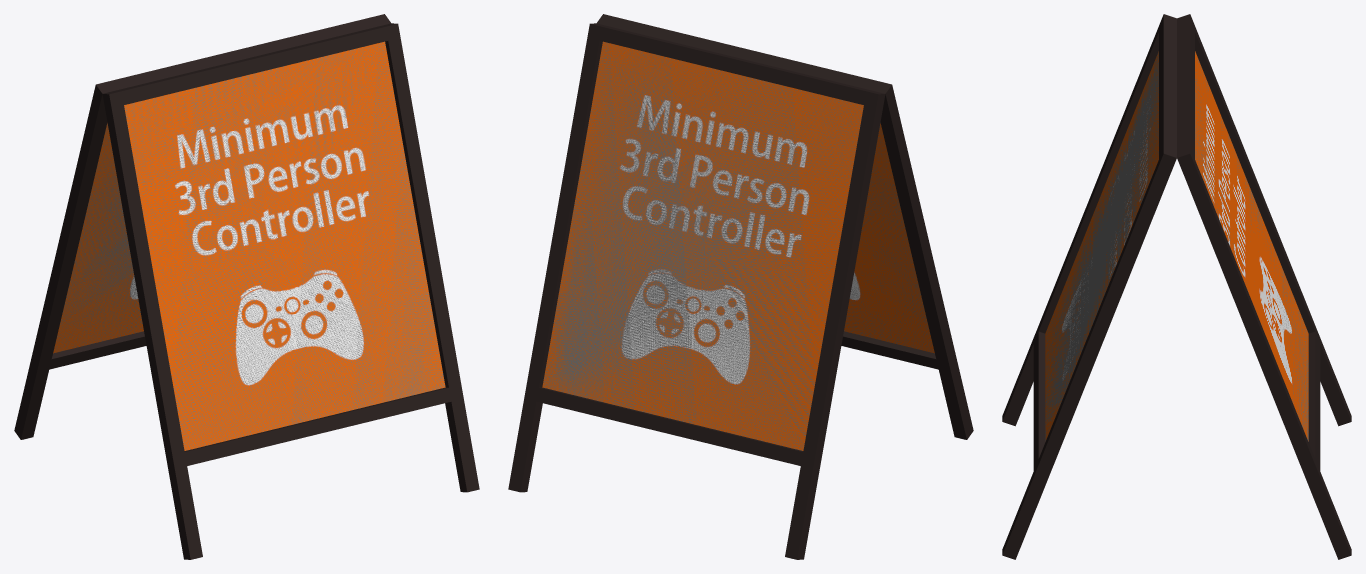
File: standAd.fbx
The picture shows the model from 3 angles, left to right: view 1: azimuth 30°, elevation 25°; view 2: azimuth 150°, elevation 25°; view 3: azimuth 270°, elevation 25°; orthographic projection.
Parts seen in each view (by area): view 1: obj1; view 2: obj1; view 3: obj1.
Part boxes in pixels (x1,y1,x2,y2): obj1: (14,14,479,559); obj1: (508,14,973,559); obj1: (1002,14,1351,559).
Bounding box in the file's own units: 70 × 95 × 74.02.
